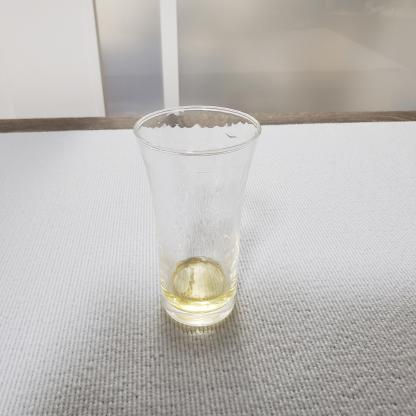glass: (127, 102, 269, 335)
